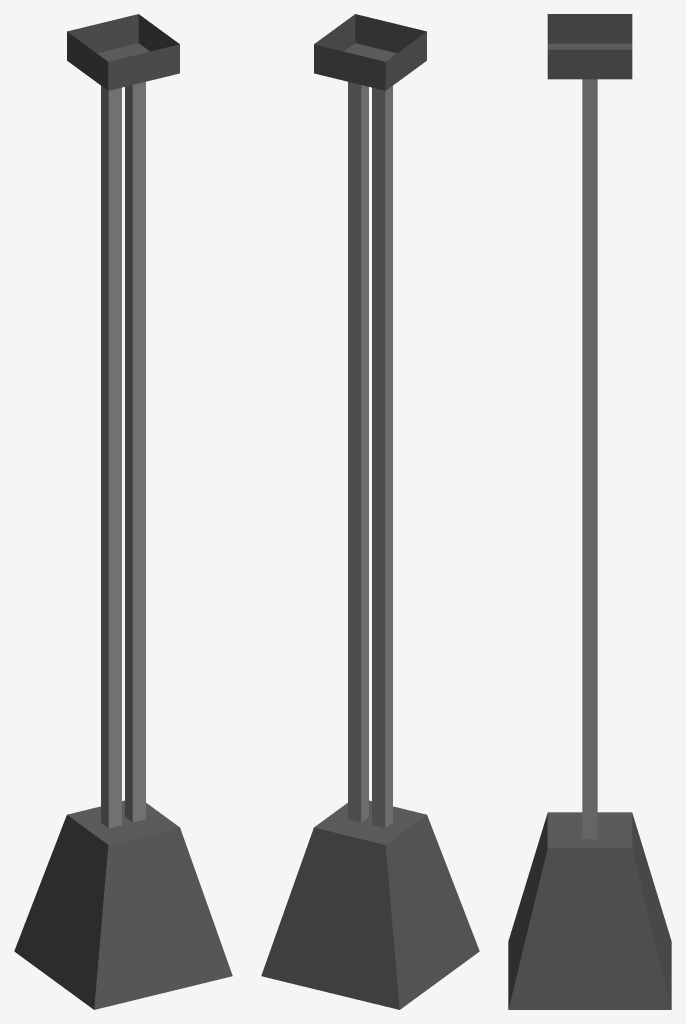
File: Chandelier_4.fbx
3 renders of one model, left to right at view 1: azimuth 30°, elevation 25°; view 2: azimuth 150°, elevation 25°; view 3: azimuth 270°, elevation 25°, orthographic.
Visible parts, largest first — view 1: Chandelier_4; view 2: Chandelier_4; view 3: Chandelier_4.
Part boxes in pixels (x1=…): Chandelier_4: x1=14, y1=14, x2=232, y2=1009; Chandelier_4: x1=261, y1=14, x2=479, y2=1009; Chandelier_4: x1=508, y1=14, x2=671, y2=1009.
Size of the model in its own units: 33.22 by 33.21 by 213.
